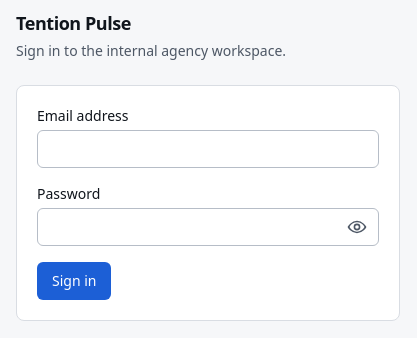
Test: the show/hide password toggle › reveals the value on click and changes the accessible name
Type "synthetic-password-value-1234" into the password field labelled "Password".
click(208, 227); type("synthetic-password-value-1234")  # box [37,208,379,246]
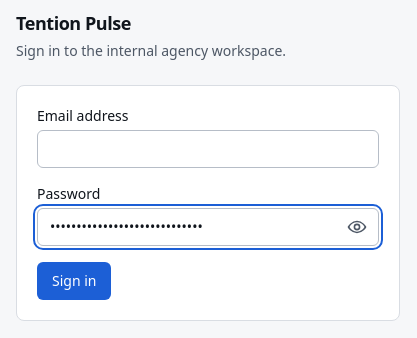
Click the button named "Show password".
click(357, 227)  # box [335,208,379,246]
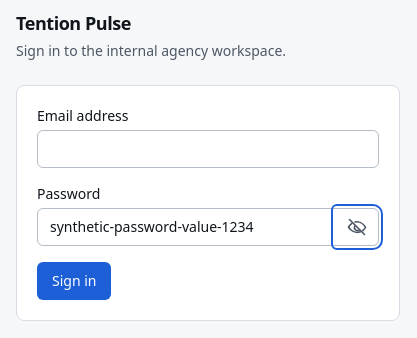
Expected: the field labelled "Password" shows its text, [37,208,379,246]
Expected: the button named "Hide password" is shown, [335,208,379,246]
